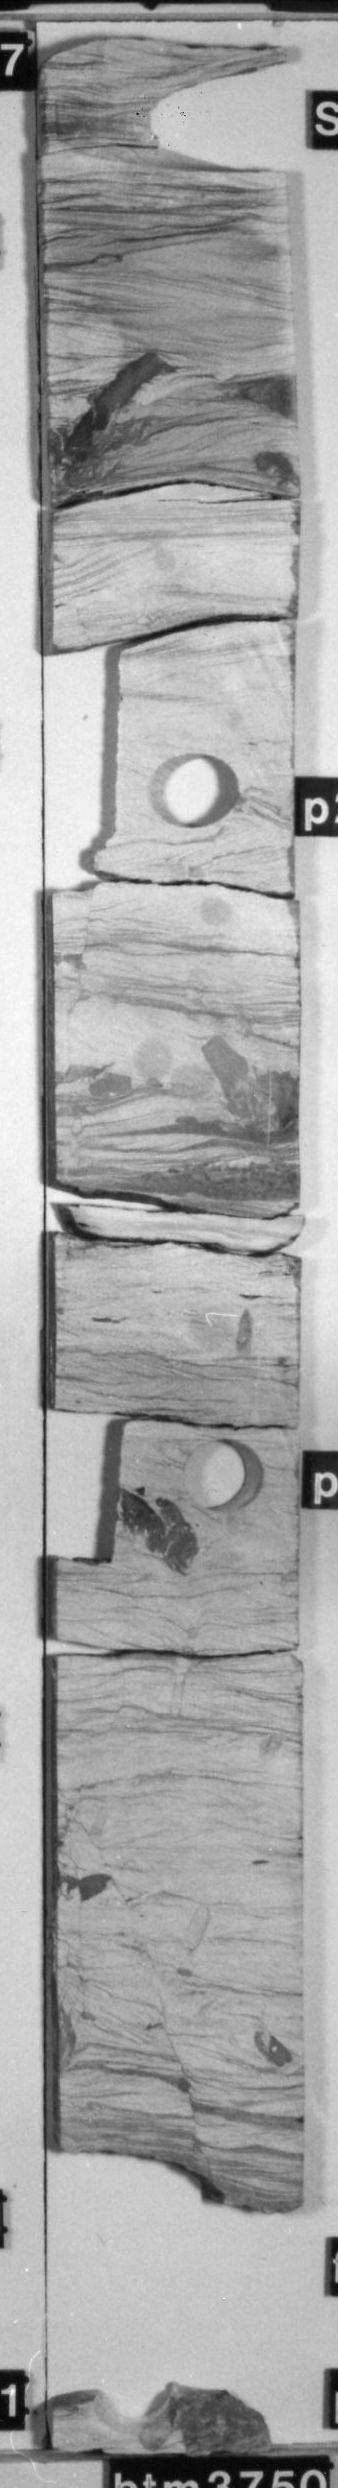hplug: (143, 746, 249, 839), (178, 1426, 273, 1523), (87, 2379, 187, 2436)
scal: (56, 48, 286, 189), (48, 2123, 236, 2213)
vplug: (48, 632, 138, 881), (51, 1392, 136, 1580)
